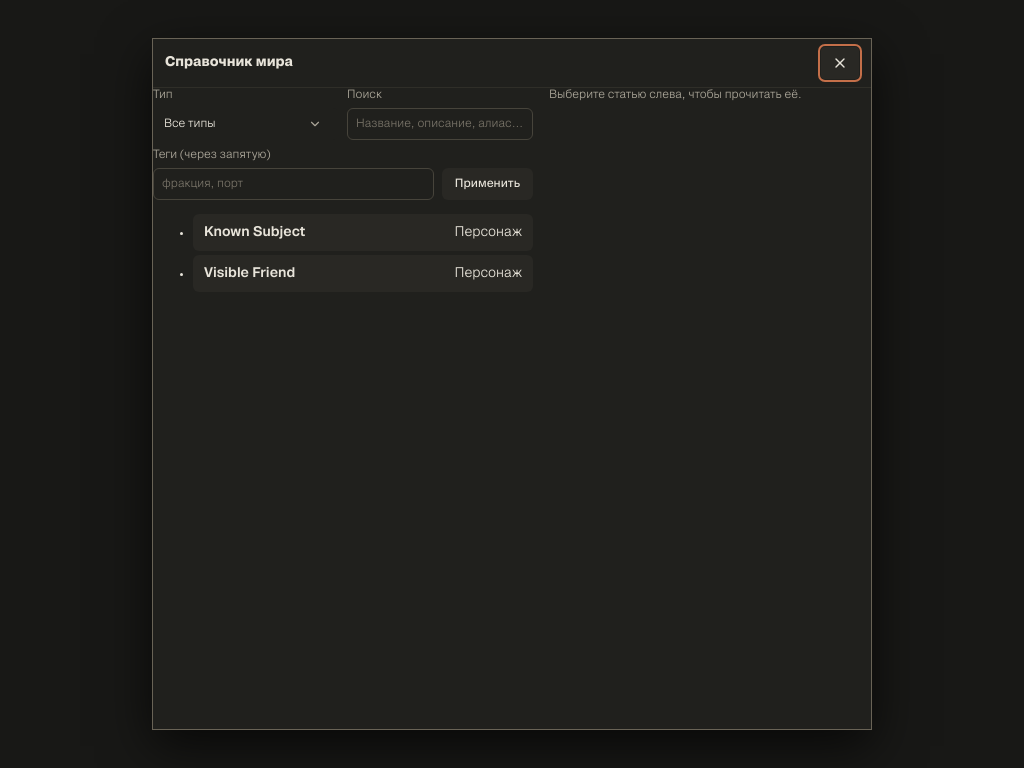
Test case: WorldEncyclopediaWorkspace known-relation filter › does not let an obsolete list response replace the newest query
Expected: the button "Known Subject Персонаж" is shown, [193,214,533,251]
Type "older" into the field labelled "Поиск" at (440, 124), box [356,109,524,139]
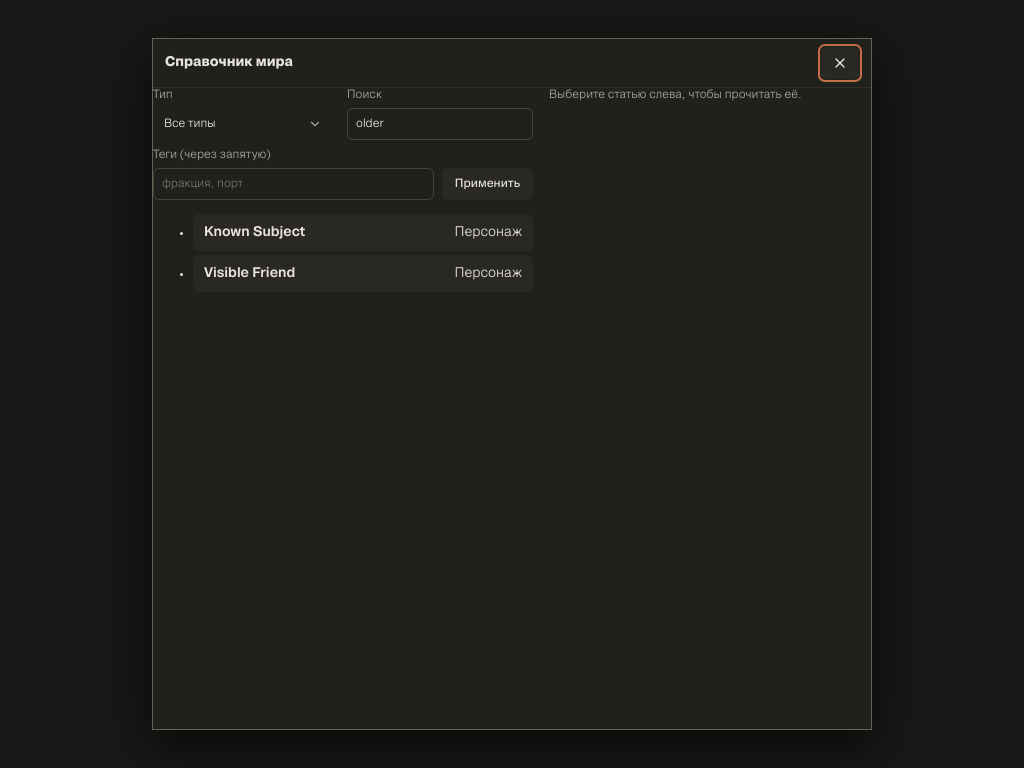
Press Enter in the field labelled "Поиск", box [356,109,524,139]
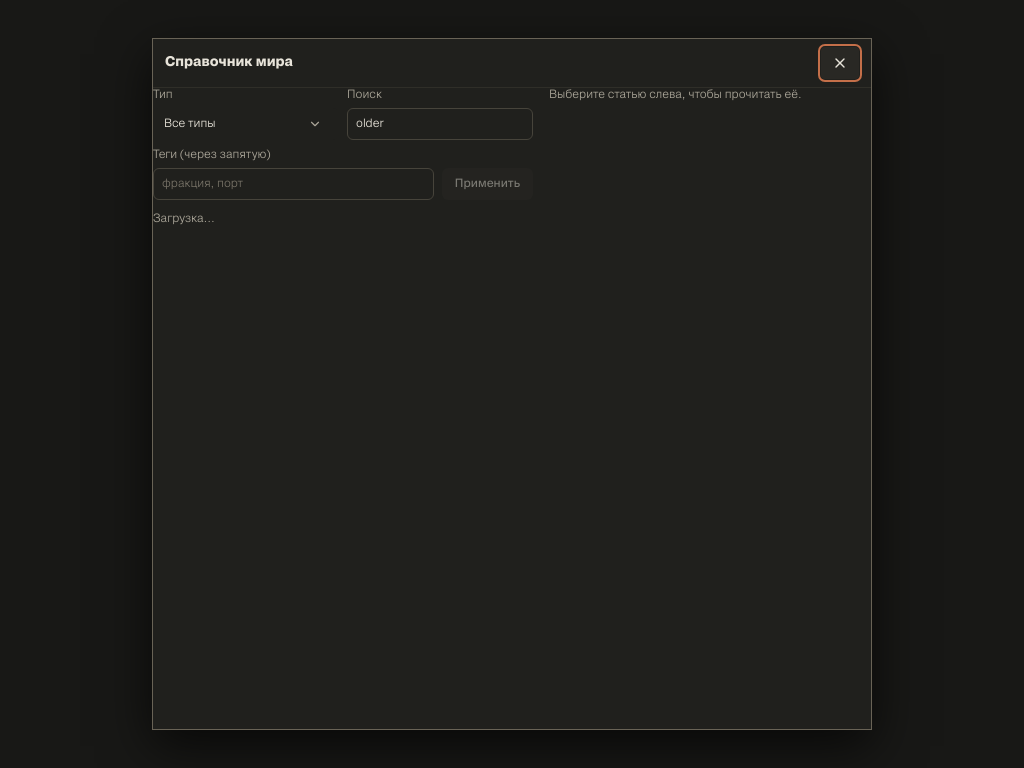
Replace the text in the field labelled "Поиск" with "newer" at (440, 124), box [356,109,524,139]
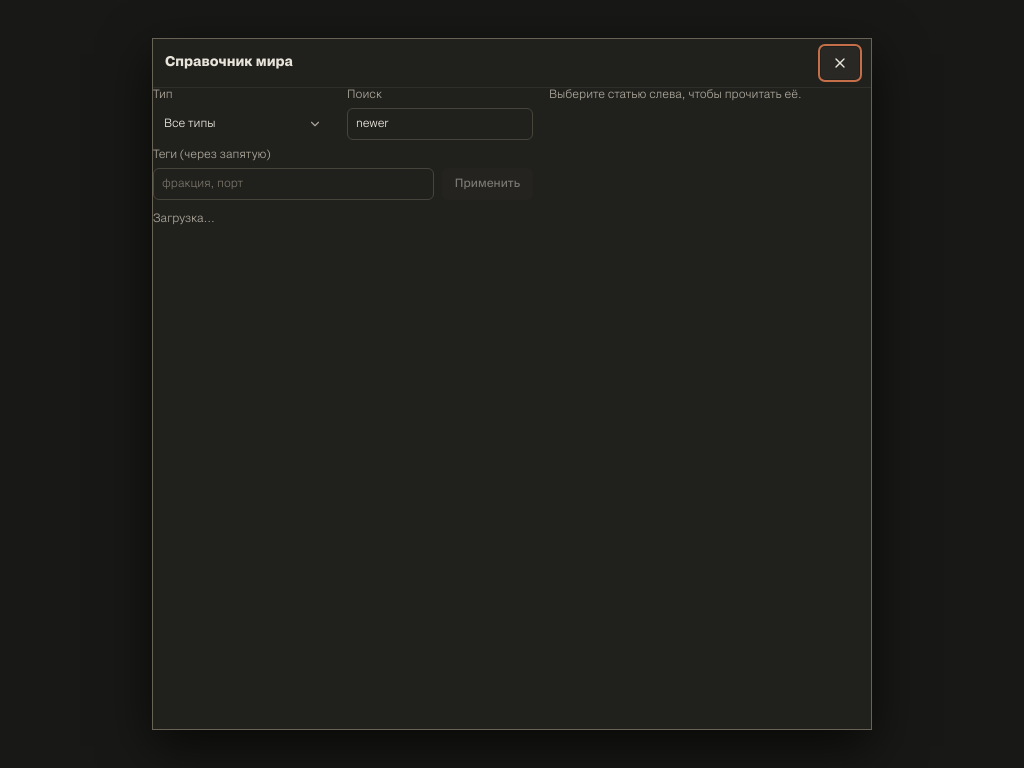
Press Enter in the field labelled "Поиск", box [356,109,524,139]
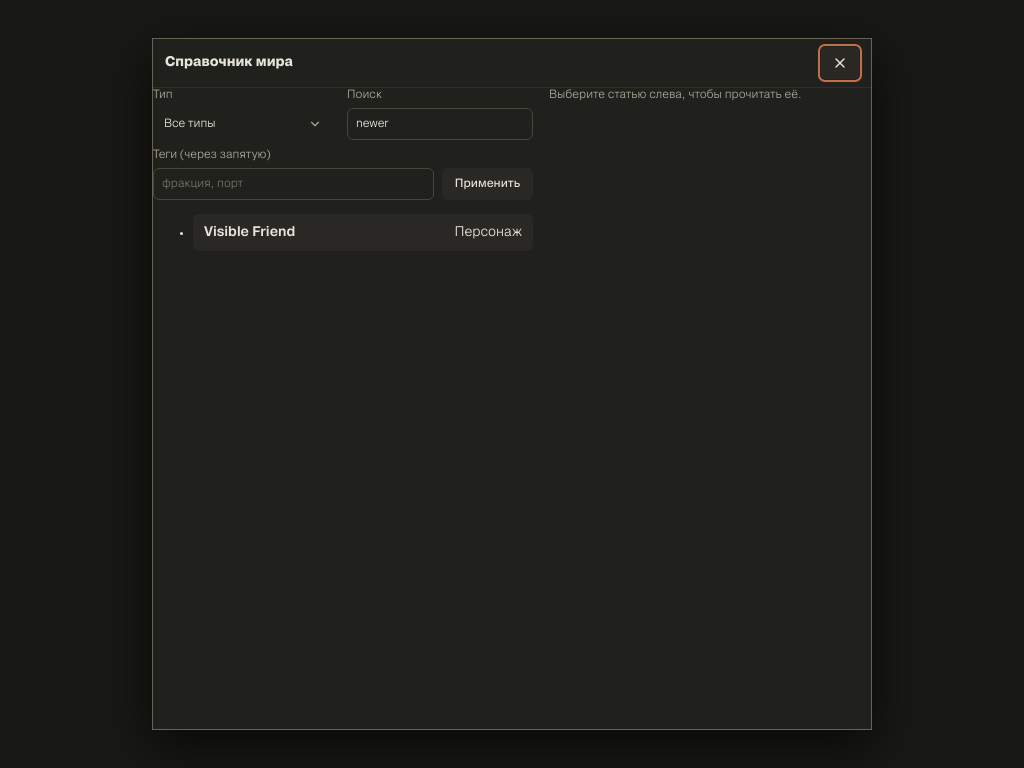
Expected: the button "Known Subject" is not shown
Expected: the button with class "world-encyclopedia-workspace__row" is shown, [193,214,533,251]
